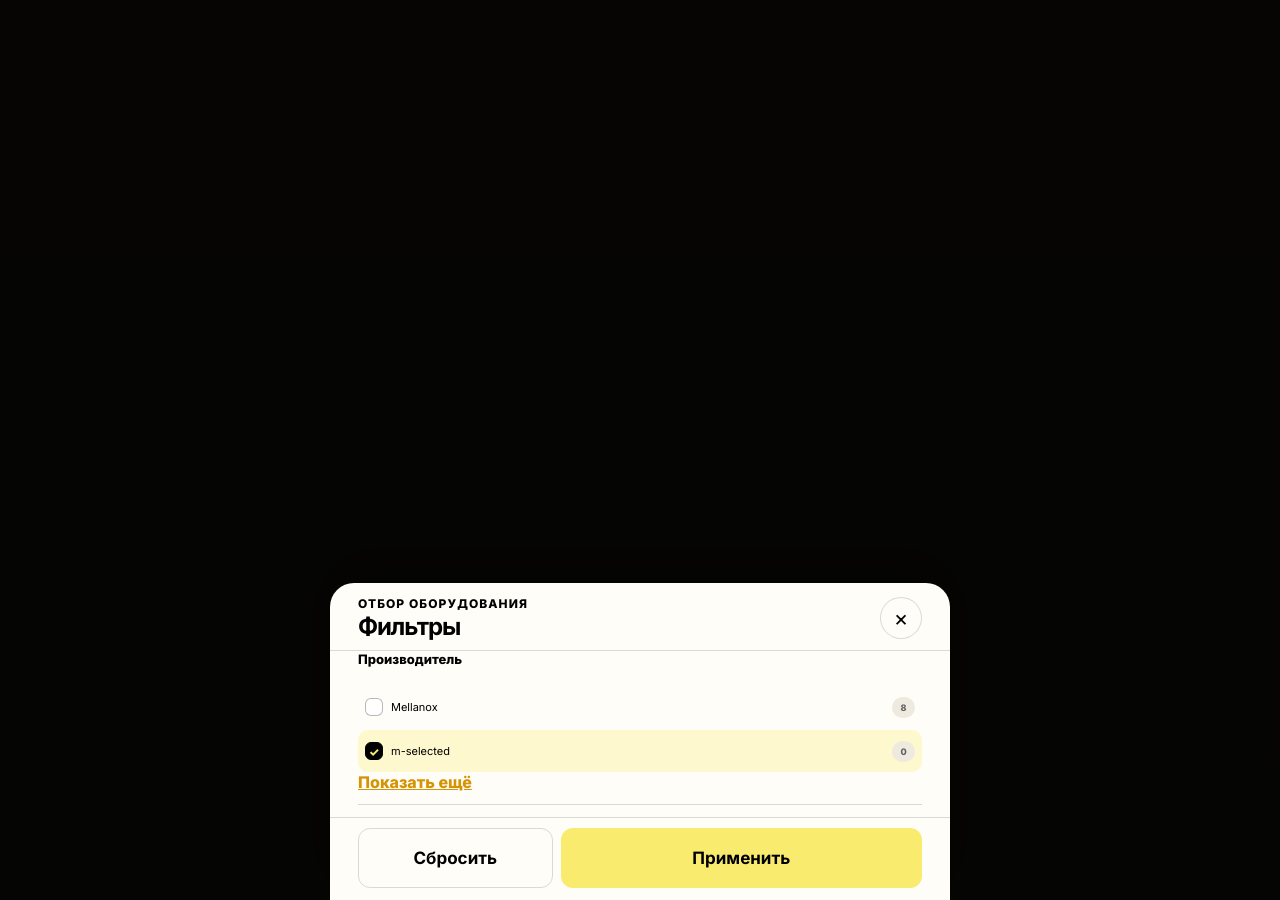
Test: дозагружает facet и сохраняет выбранное значение вне текущей страницы
Expected: the checkbox labelled "m-selected" is checked, [358, 730, 922, 772]
Expected: the checkbox labelled "Mellanox" is shown, [365, 696, 915, 718]
Click the button with aria-label "Показать ещё: Производитель" at (415, 782), box [358, 772, 472, 792]
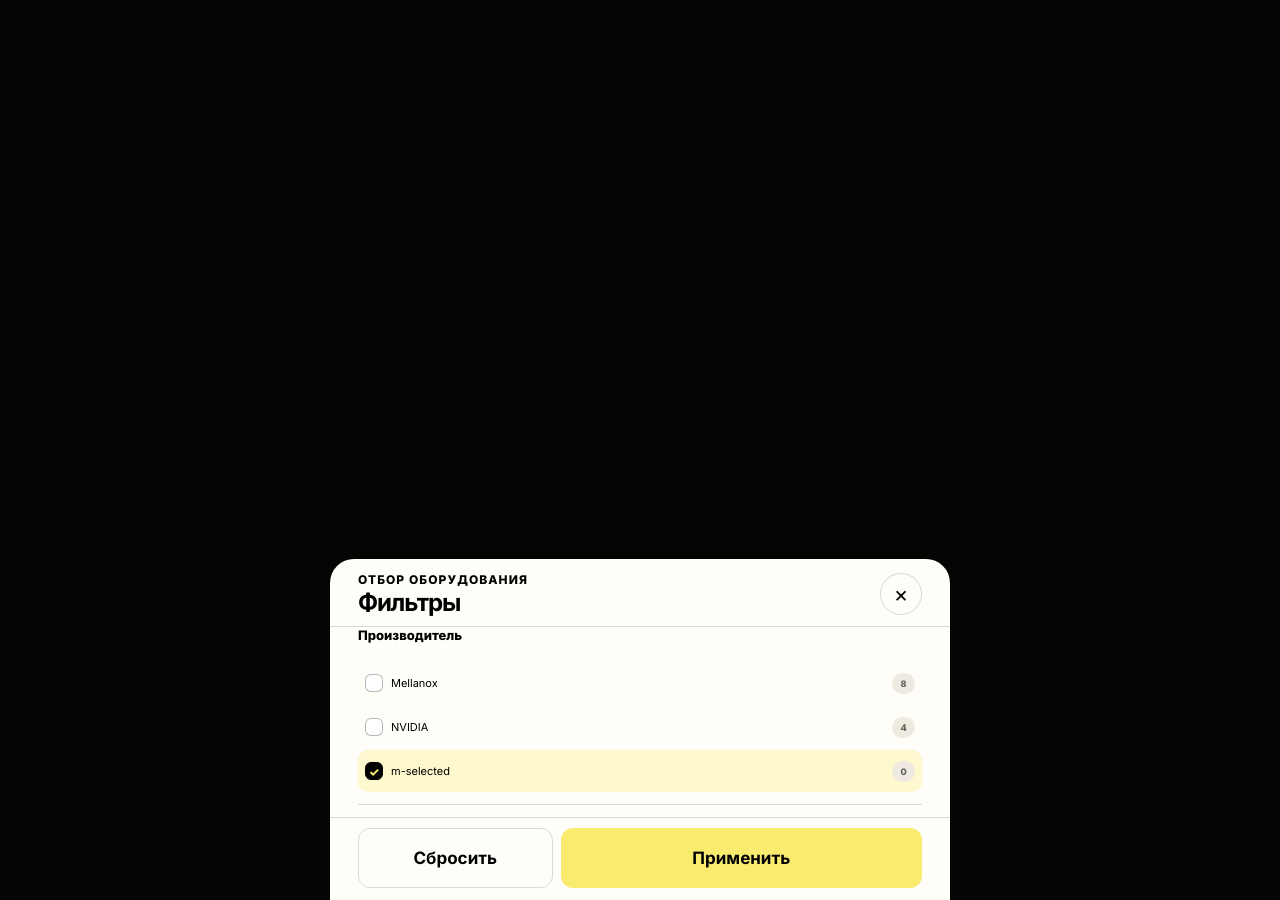
Expected: the checkbox labelled "m-selected" is checked, [358, 750, 922, 792]
Now the checkbox labelled "NVIDIA" is shown, box [365, 716, 915, 738]
